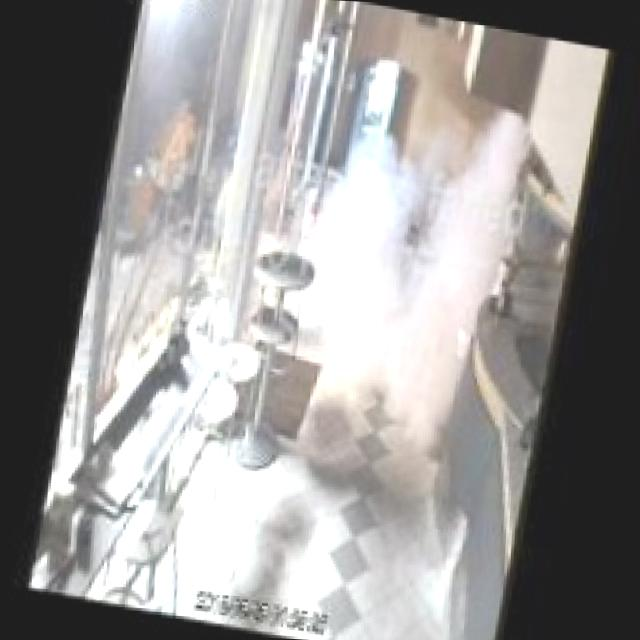smoke: (279, 71, 554, 442)
